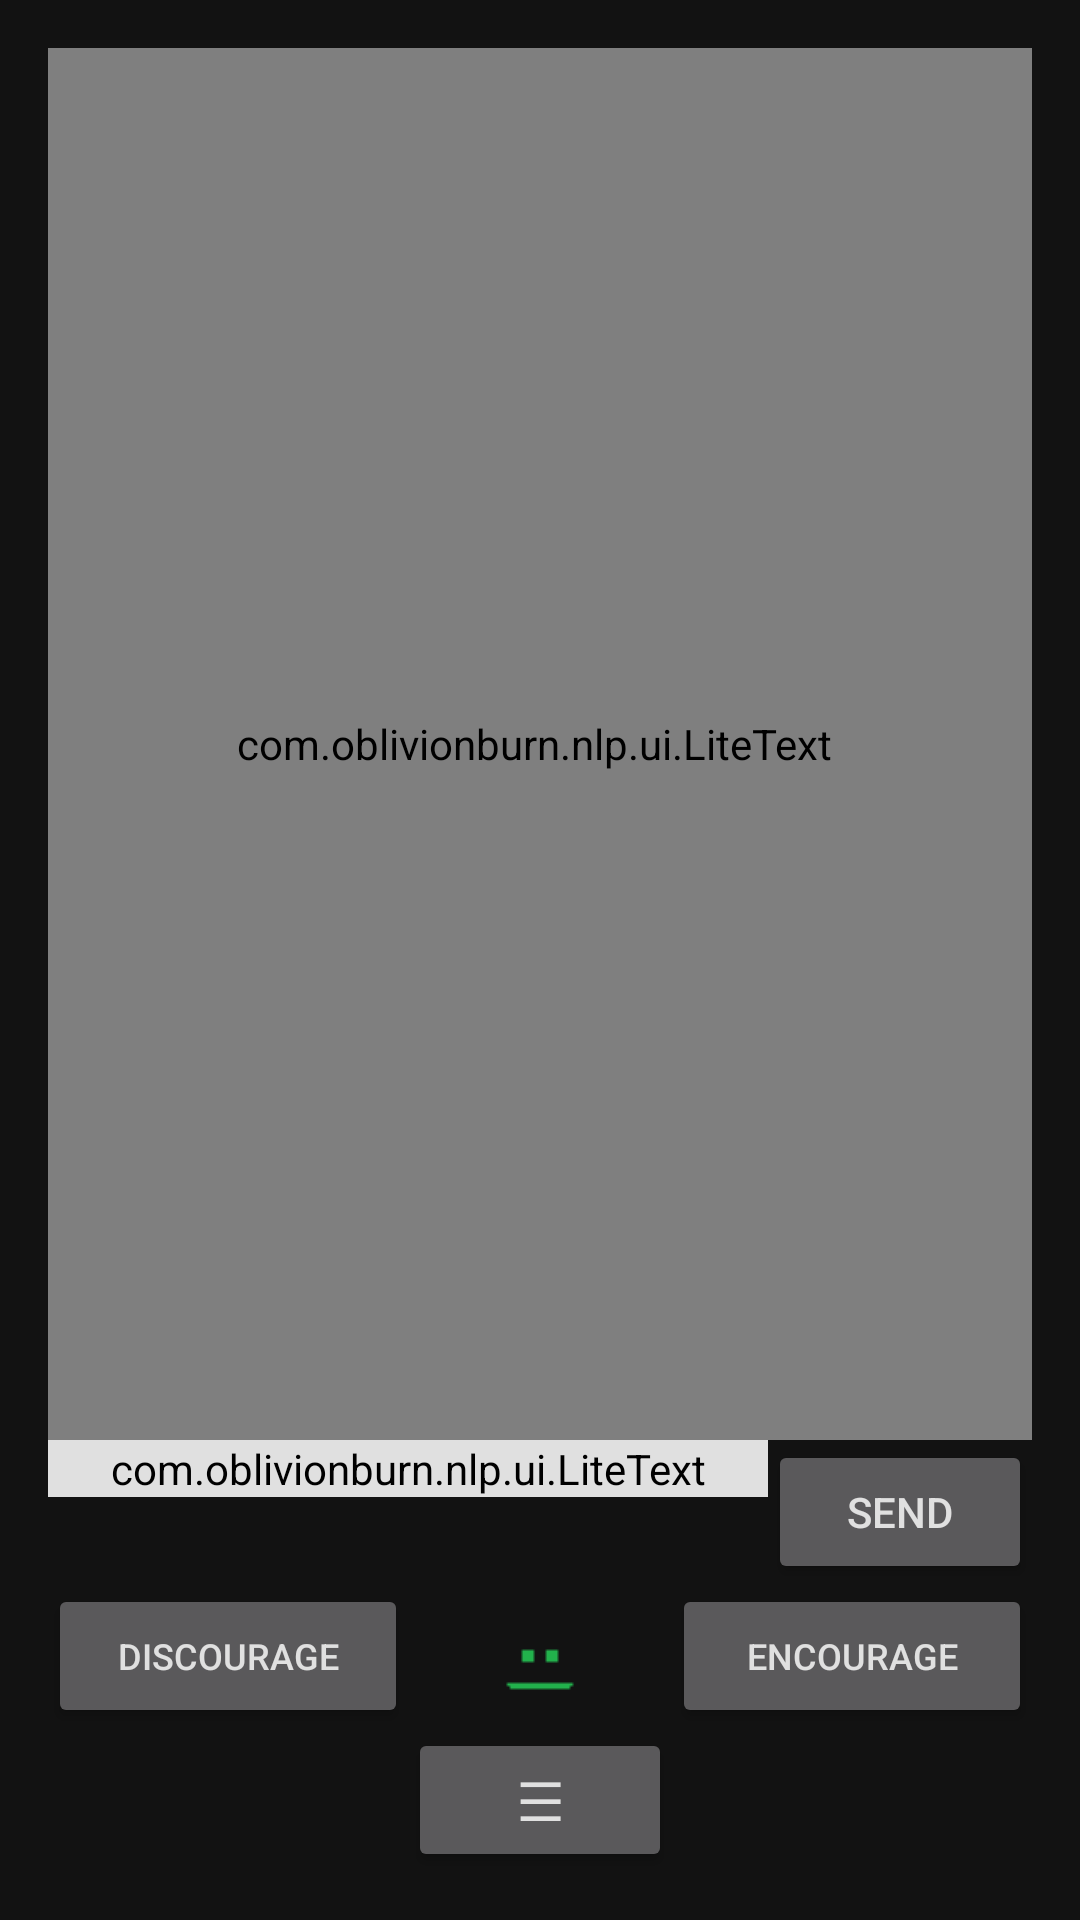

Icons on this 1080x1920 Android screen, each with the point to tap as [x,y]:
face neutral: [540,1669]
